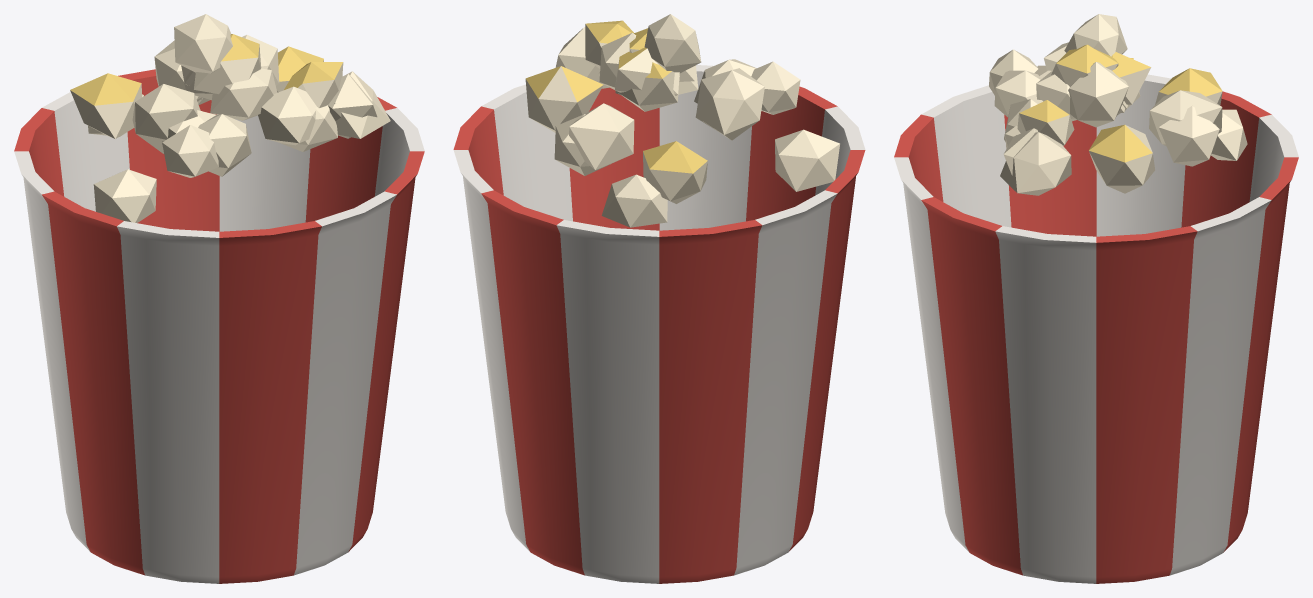
The model's file is pipoca.glb.
3 views of the same model, side by side, from view 1: azimuth 30°, elevation 25°; view 2: azimuth 150°, elevation 25°; view 3: azimuth 270°, elevation 25° (orthographic).
Parts seen in each view (by area): view 1: pipoca; view 2: pipoca; view 3: pipoca.
Boxes of the visible parts, bbox=[...] form: pipoca: bbox=[14, 14, 424, 583]; pipoca: bbox=[453, 14, 865, 583]; pipoca: bbox=[894, 14, 1298, 583].
Size of the model in its own units: 0.166 by 0.2271 by 0.166.
